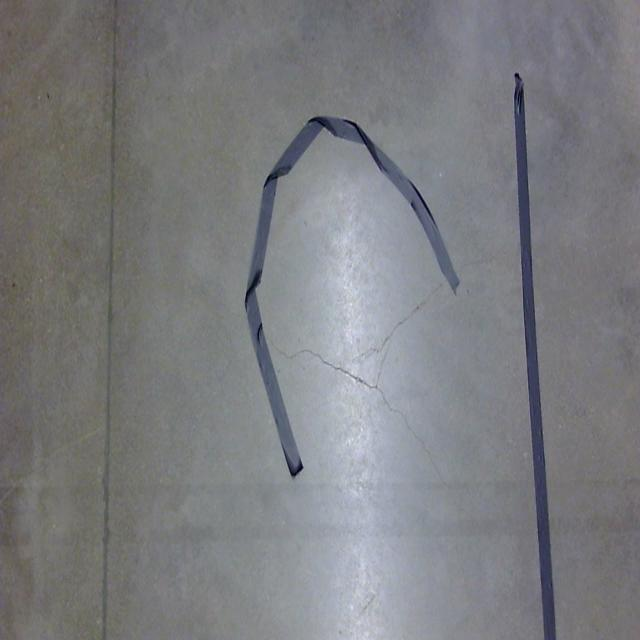tape: (228, 87, 468, 493), (502, 49, 585, 640)
